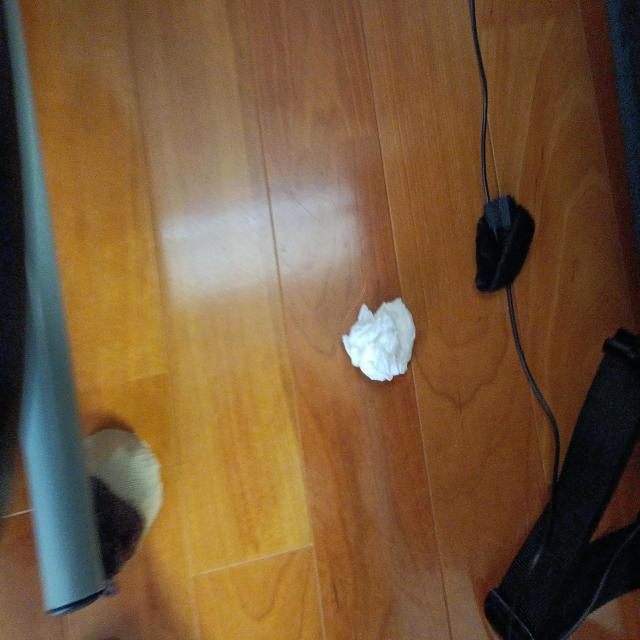Paper: (330, 283, 427, 382)
